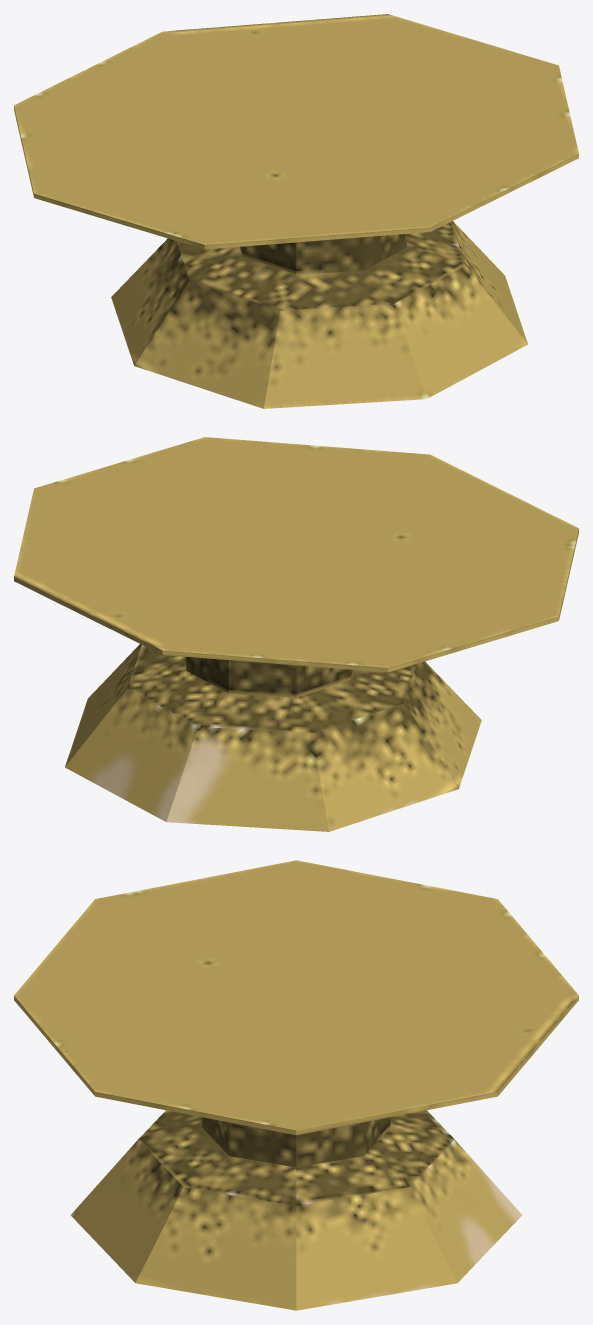
The model's file is candleHolder.fbx.
3 renders of one model, top to bottom at view 1: azimuth 30°, elevation 25°; view 2: azimuth 150°, elevation 25°; view 3: azimuth 270°, elevation 25°, orthographic. The views are drawn at different scales.
Parts seen in each view (by area): view 1: candleHolder; view 2: candleHolder; view 3: candleHolder.
Part boxes in pixels (x1=…): candleHolder: x1=14, y1=14, x2=578, y2=408; candleHolder: x1=14, y1=437, x2=578, y2=831; candleHolder: x1=14, y1=860, x2=578, y2=1310.
Bounding box in the file's own units: 764 × 274 × 675.
